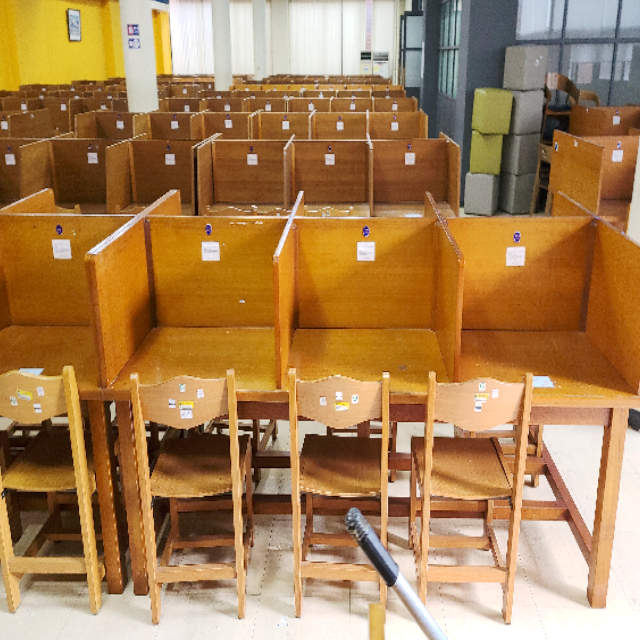empty: (282, 209, 461, 481), (108, 210, 277, 488), (469, 214, 640, 480)
